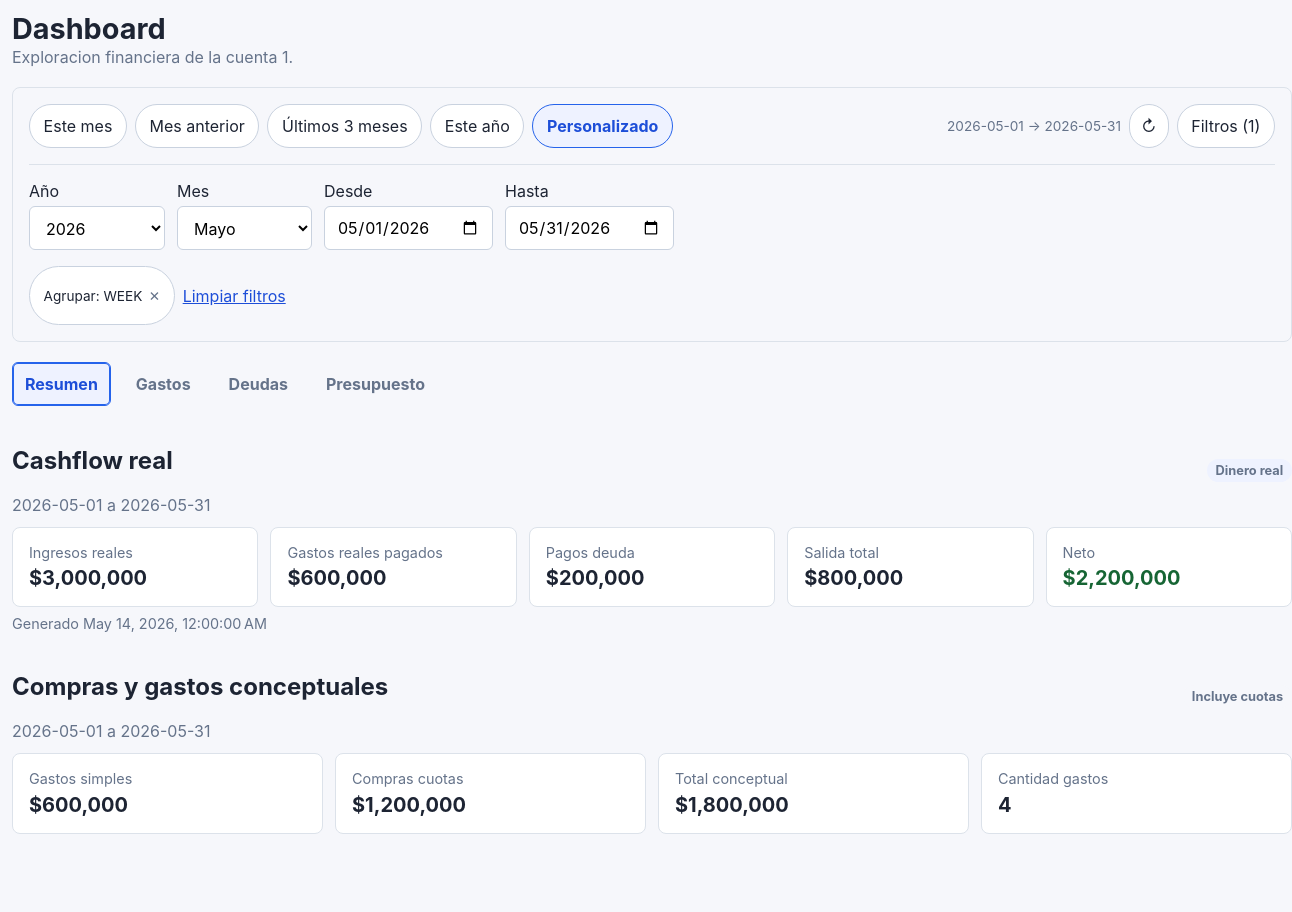
DashboardPageComponent › shows budget comparison empty state
Step 1. Click the tab "Presupuesto" → (376, 384), box [313,362,438,406]
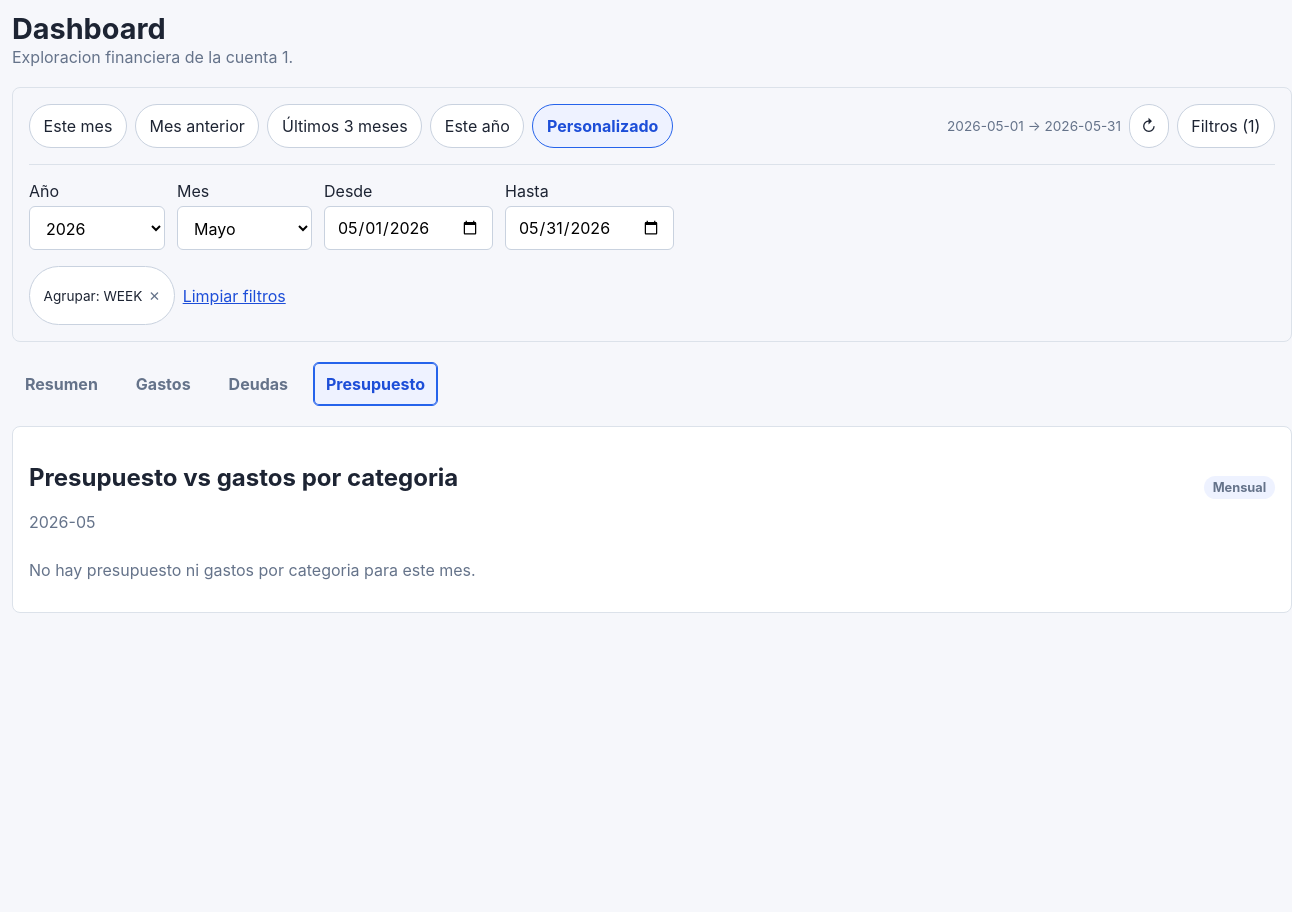
Check: the text "No hay presupuesto ni gastos por categoria para este mes" is shown, box [29,560,476,580]
